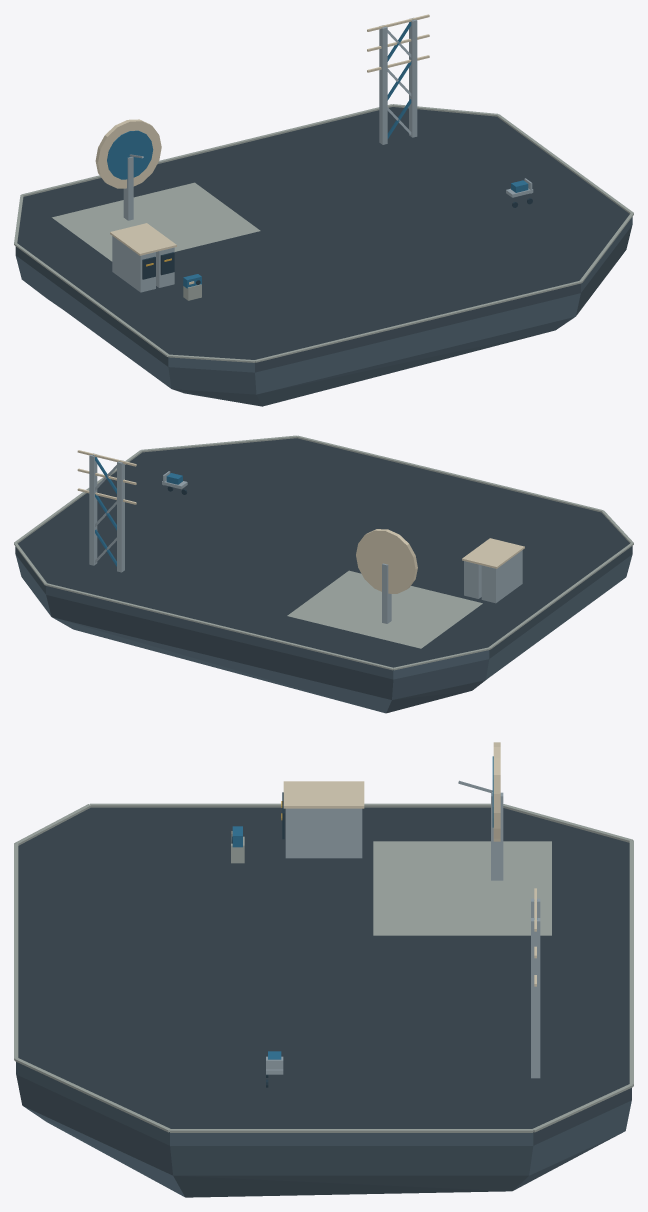
Rendered from fi17-antenna-relay.glb.
3 views of the same model, one above another, from view 1: azimuth 30°, elevation 25°; view 2: azimuth 150°, elevation 25°; view 3: azimuth 270°, elevation 25° (orthographic). The views are drawn at different scales.
Parts seen in each view (by area): view 1: GEO_foundation, GEO_forecourt, GEO_rim, LAND_0_dish, LAND_2_transmitter, LAND_1_lattice; view 2: GEO_foundation, GEO_forecourt, GEO_rim, LAND_0_dish, LAND_2_transmitter, LAND_1_lattice; view 3: GEO_foundation, GEO_forecourt, GEO_rim, LAND_2_transmitter, LAND_1_lattice, LAND_0_dish.
Boxes of the visible parts, box(x1,y1,x2,y2) form: GEO_foundation: box(15, 107, 632, 406); GEO_forecourt: box(52, 182, 260, 261); GEO_rim: box(14, 104, 633, 362); LAND_0_dish: box(95, 119, 161, 220); LAND_2_transmitter: box(110, 223, 176, 292); LAND_1_lattice: box(367, 14, 429, 144); GEO_foundation: box(15, 438, 632, 713); GEO_forecourt: box(287, 570, 482, 648); GEO_rim: box(14, 435, 633, 670); LAND_0_dish: box(356, 529, 417, 623); LAND_2_transmitter: box(462, 538, 524, 603); LAND_1_lattice: box(77, 450, 136, 572); GEO_foundation: box(16, 807, 631, 1197); GEO_forecourt: box(373, 841, 551, 935); GEO_rim: box(14, 803, 633, 1132); LAND_2_transmitter: box(281, 781, 364, 858); LAND_1_lattice: box(531, 888, 540, 1078); LAND_0_dish: box(458, 742, 503, 880).
Bounding box in the file's own units: 40.22 × 13.77 × 32.22.
